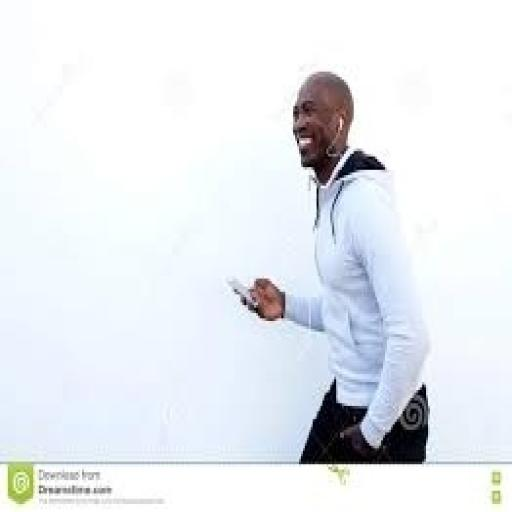listening_to_music: (234, 66, 434, 464)
